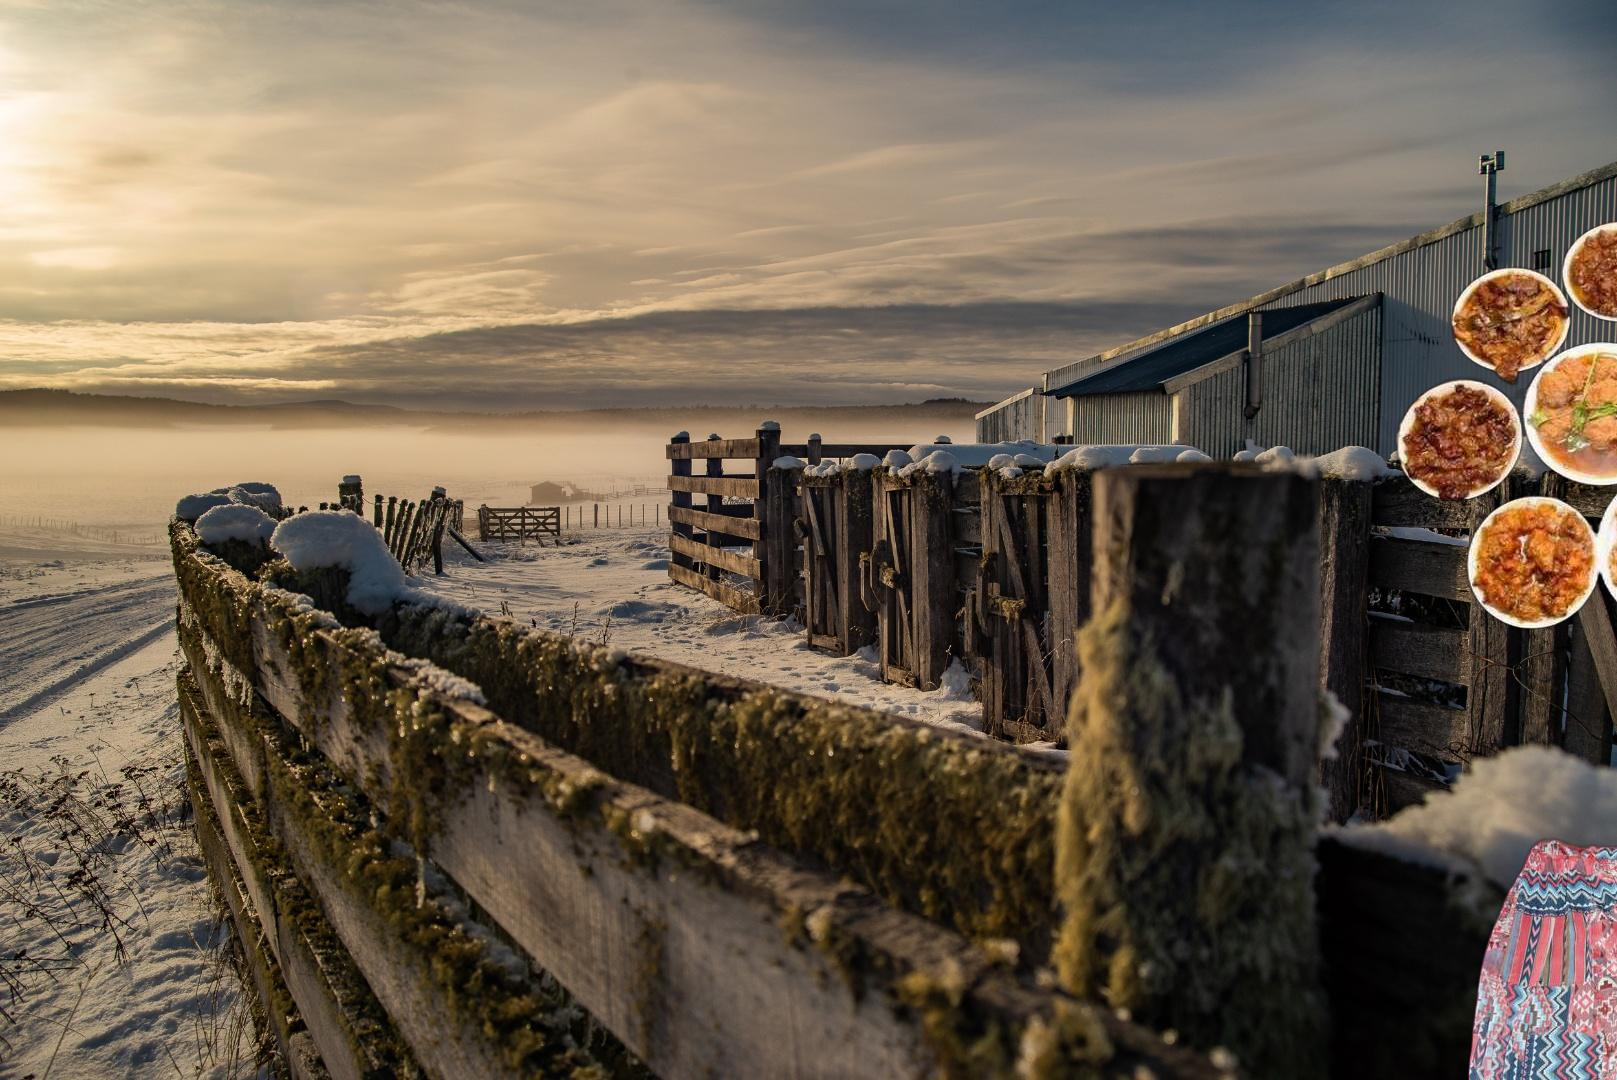biological: (1390, 217, 1617, 642)
clothes: (1445, 834, 1617, 1080)
